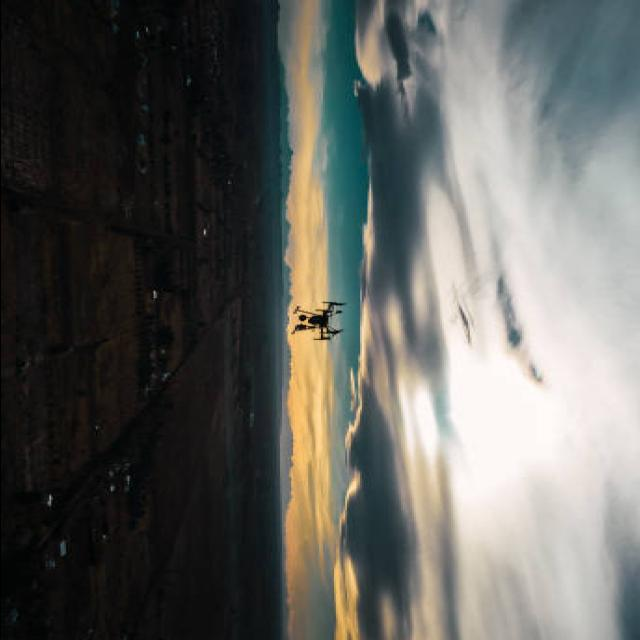drone: (290, 300, 348, 341)
